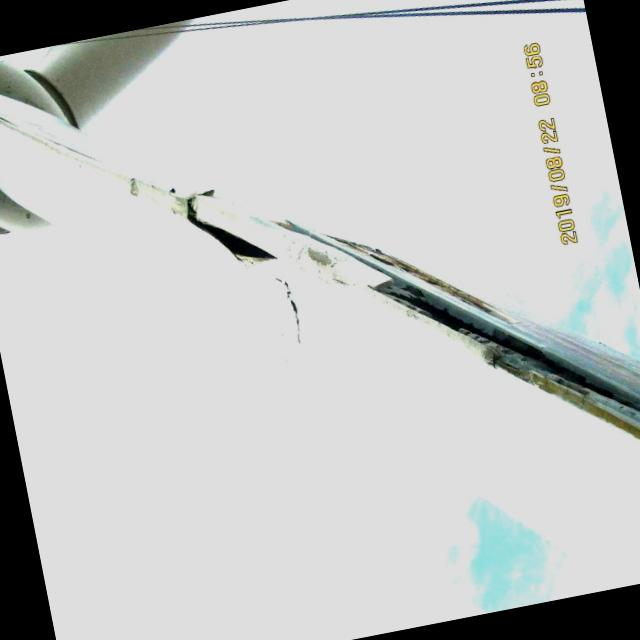crack: (156, 139, 458, 366), (479, 299, 640, 455)
